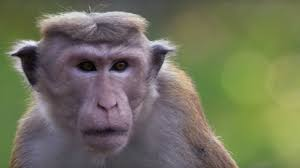monkey: (20, 10, 220, 154)
